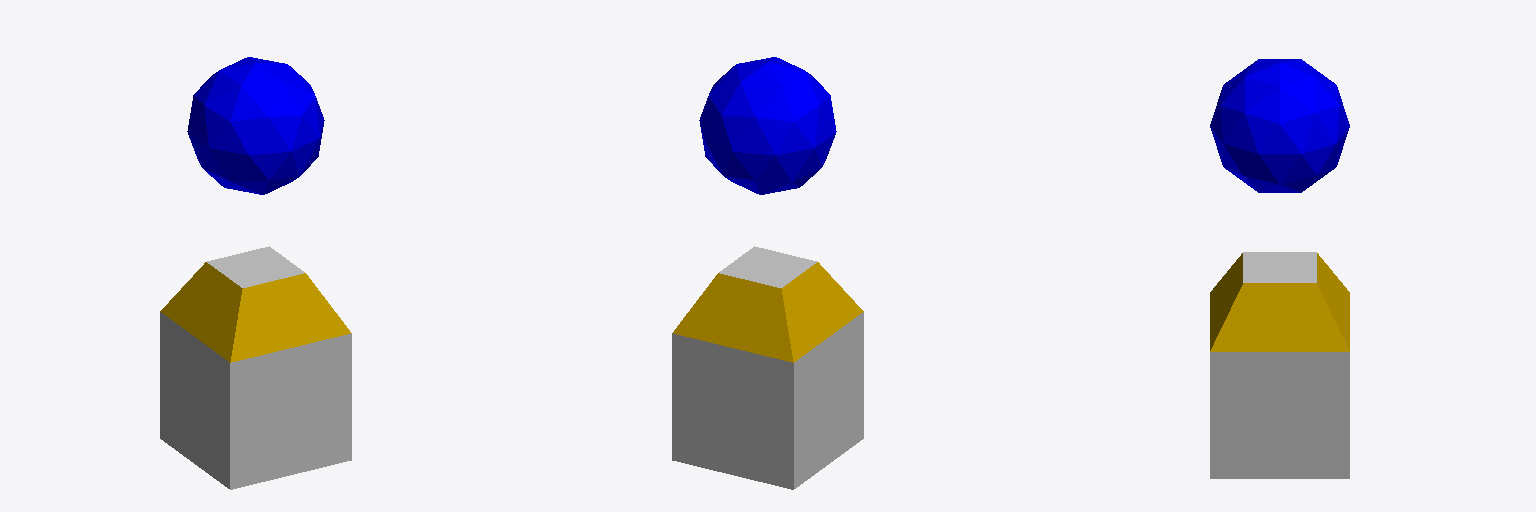
The model's file is complex.obj.
The picture shows the model from 3 angles: view 1: azimuth 30°, elevation 25°; view 2: azimuth 150°, elevation 25°; view 3: azimuth 270°, elevation 25°; orthographic projection.
Visible parts, largest first — view 1: Cube, Icosphere; view 2: Cube, Icosphere; view 3: Cube, Icosphere.
Part boxes in pixels (x1,y1,x2,y2): Cube: (160,246,351,489); Icosphere: (187,57,324,194); Cube: (672,246,863,489); Icosphere: (699,57,836,194); Cube: (1210,252,1349,478); Icosphere: (1210,59,1349,192).
Bounding box in the file's own units: 2 × 6.09 × 2.